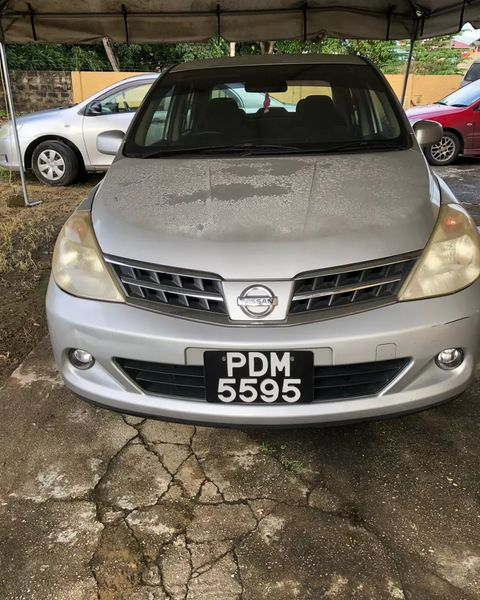License-Plate: (204, 350, 314, 403)
